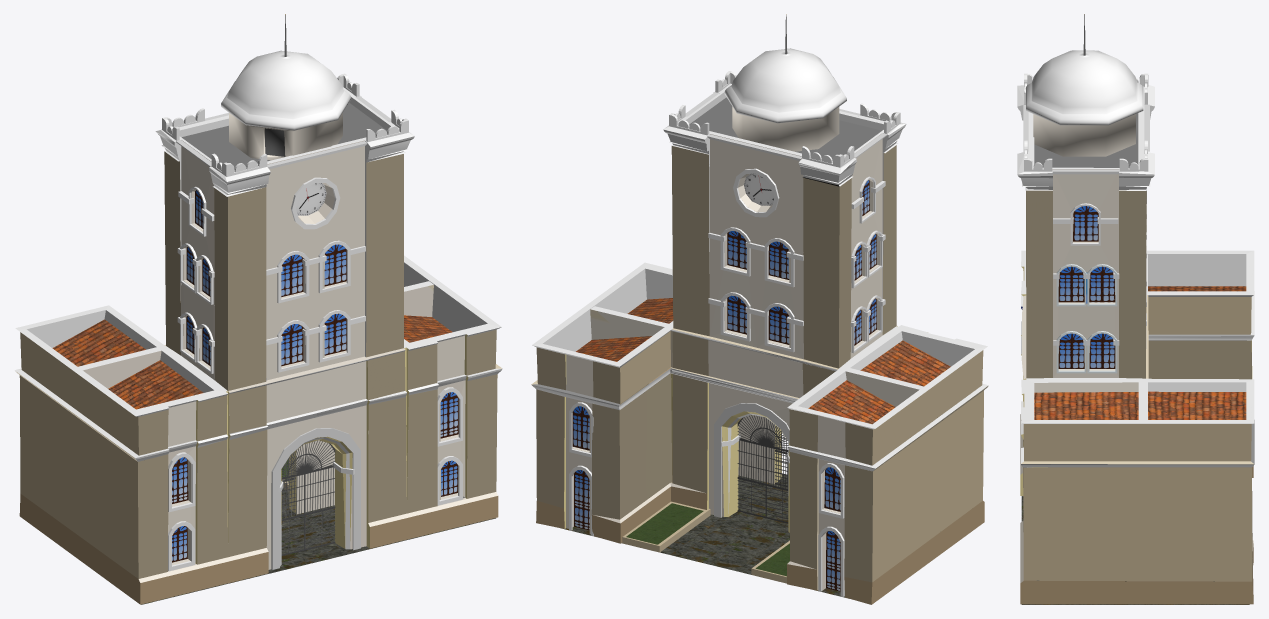
File: Torre_Malakoff.glb
The picture shows the model from 3 angles, left to right: view 1: azimuth 30°, elevation 25°; view 2: azimuth 150°, elevation 25°; view 3: azimuth 270°, elevation 25°; orthographic projection. The views are drawn at different scales.
Visible parts, largest first — view 1: Predio.001, Cylinder, Predio.005, Telhado, Predio.008, Plane, Portal01, Janela11, Janela01, Janela02, Janela12, Portal_Relogio_01 (+1 smaller); view 2: Predio.001, Cylinder, Predio.005, Plane, Telhado, Predio.006, Cube.033, Portal02, Prota, Janela10, Janela04, Janela03 (+2 smaller); view 3: Predio.001, Cylinder, Telhado, Predio.005, Predio.003, Predio.002, Plane.033, Janela07, Janela06, Janela08, Janela09, Janela05.
Boxes of the visible parts, x1,y1,x2,y2 form: Predio.001: [14, 87, 502, 604]; Cylinder: [221, 14, 351, 160]; Predio.005: [172, 190, 458, 562]; Telhado: [52, 315, 452, 409]; Predio.008: [281, 440, 335, 555]; Plane: [141, 488, 495, 604]; Portal01: [271, 428, 360, 569]; Janela11: [168, 387, 462, 512]; Janela01: [277, 240, 350, 303]; Janela02: [277, 310, 350, 372]; Janela12: [168, 456, 462, 571]; Portal_Relogio_01: [291, 177, 340, 229]; Predio.001: [531, 83, 988, 604]; Cylinder: [724, 14, 846, 151]; Predio.005: [572, 180, 876, 591]; Plane: [561, 474, 848, 598]; Telhado: [576, 298, 950, 424]; Predio.006: [737, 415, 788, 523]; Cube.033: [622, 501, 710, 552]; Portal02: [714, 403, 789, 517]; Prota: [569, 465, 844, 596]; Janela10: [569, 402, 844, 518]; Janela04: [720, 292, 794, 352]; Janela03: [720, 227, 794, 287]; Predio.001: [1017, 85, 1254, 604]; Cylinder: [1026, 14, 1143, 156]; Telhado: [1034, 286, 1246, 419]; Predio.005: [1058, 206, 1115, 368]; Predio.003: [1119, 140, 1148, 171]; Predio.002: [1024, 140, 1052, 171]; Plane.033: [1052, 169, 1119, 174]; Janela07: [1056, 264, 1086, 306]; Janela06: [1087, 264, 1117, 306]; Janela08: [1087, 331, 1117, 373]; Janela09: [1056, 331, 1086, 373]; Janela05: [1070, 203, 1100, 245].
Bounding box in the file's own units: 2.15 × 2.93 × 1.24.
Materials: 10 (7 with a texture image).
